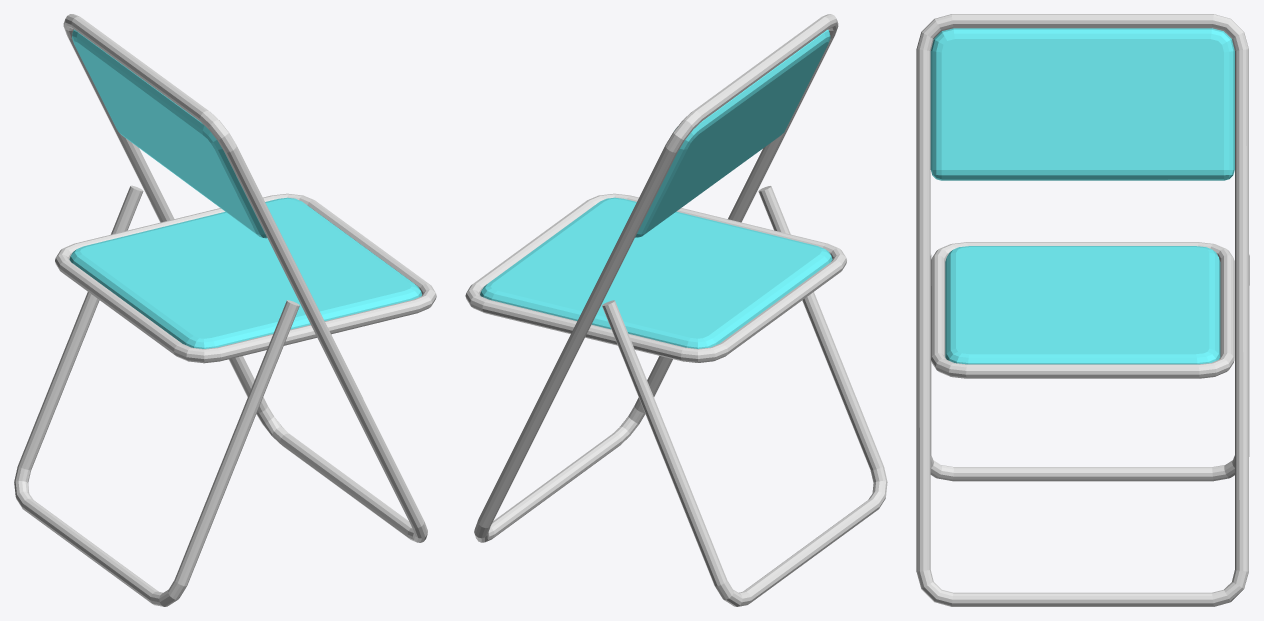
File: chair_blue.4055a0c3.glb
3 renders of one model, left to right at view 1: azimuth 30°, elevation 25°; view 2: azimuth 150°, elevation 25°; view 3: azimuth 270°, elevation 25°, orthographic.
Parts seen in each view (by area): view 1: Cube; view 2: Cube; view 3: Cube.
Part boxes in pixels (bbox=[...]): Cube: bbox=[14, 14, 436, 606]; Cube: bbox=[465, 14, 887, 606]; Cube: bbox=[916, 14, 1249, 606].
Bounding box in the file's own units: 2.34 × 3.74 × 2.3.
